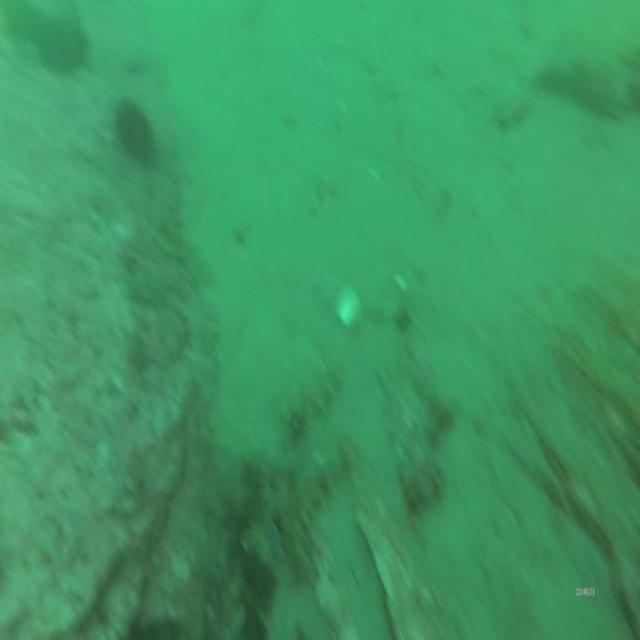echinus: (36, 9, 90, 79), (114, 92, 156, 169)
holothurian: (276, 449, 358, 586), (280, 349, 345, 449)
